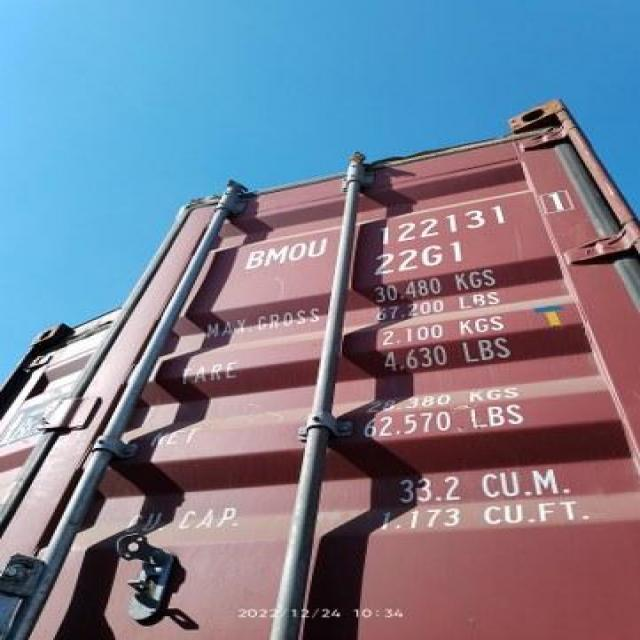container_number_h: (174, 181, 604, 284)
